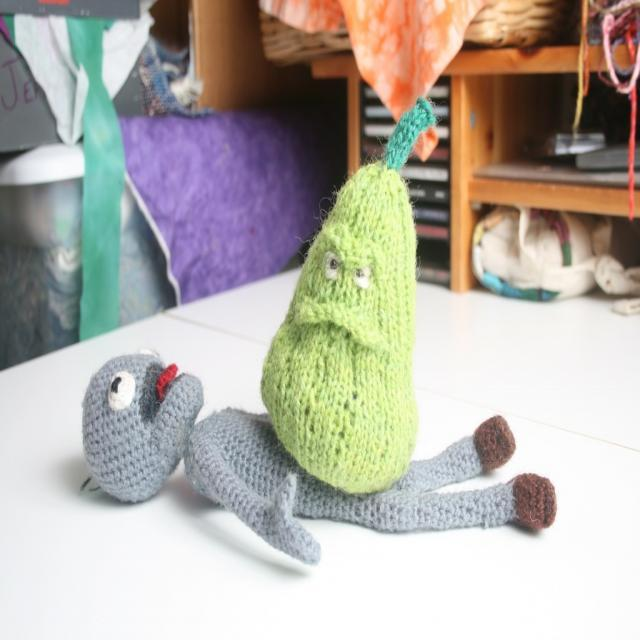Pear: (256, 103, 442, 493)
